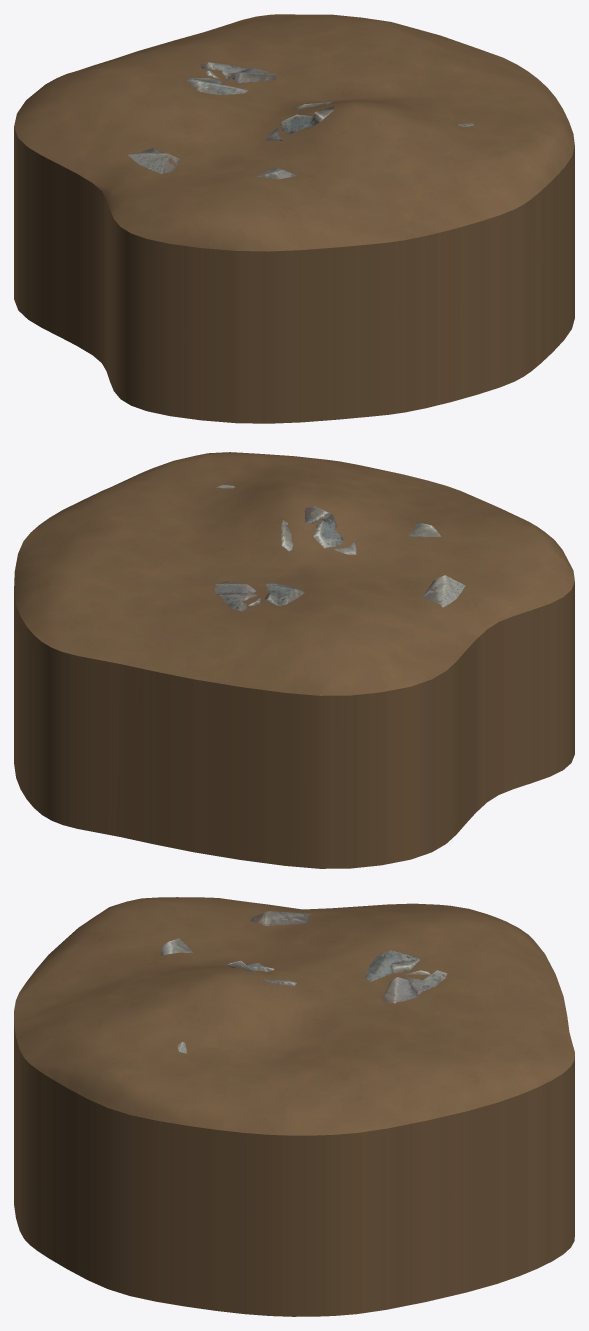
3 views of the same model, one above another, from view 1: azimuth 30°, elevation 25°; view 2: azimuth 150°, elevation 25°; view 3: azimuth 270°, elevation 25° (orthographic). The views are drawn at different scales.
Parts seen in each view (by area): view 1: SM_Vault_Sand_Pile_01_V4_LOD0; view 2: SM_Vault_Sand_Pile_01_V4_LOD0; view 3: SM_Vault_Sand_Pile_01_V4_LOD0.
Part boxes in pixels (<box>): SM_Vault_Sand_Pile_01_V4_LOD0: <box>14,14,574,423</box>; SM_Vault_Sand_Pile_01_V4_LOD0: <box>14,452,574,868</box>; SM_Vault_Sand_Pile_01_V4_LOD0: <box>14,897,574,1316</box>.
Size of the model in its own units: 2.82 by 1.28 by 2.81.
2 materials, 2 textured.
